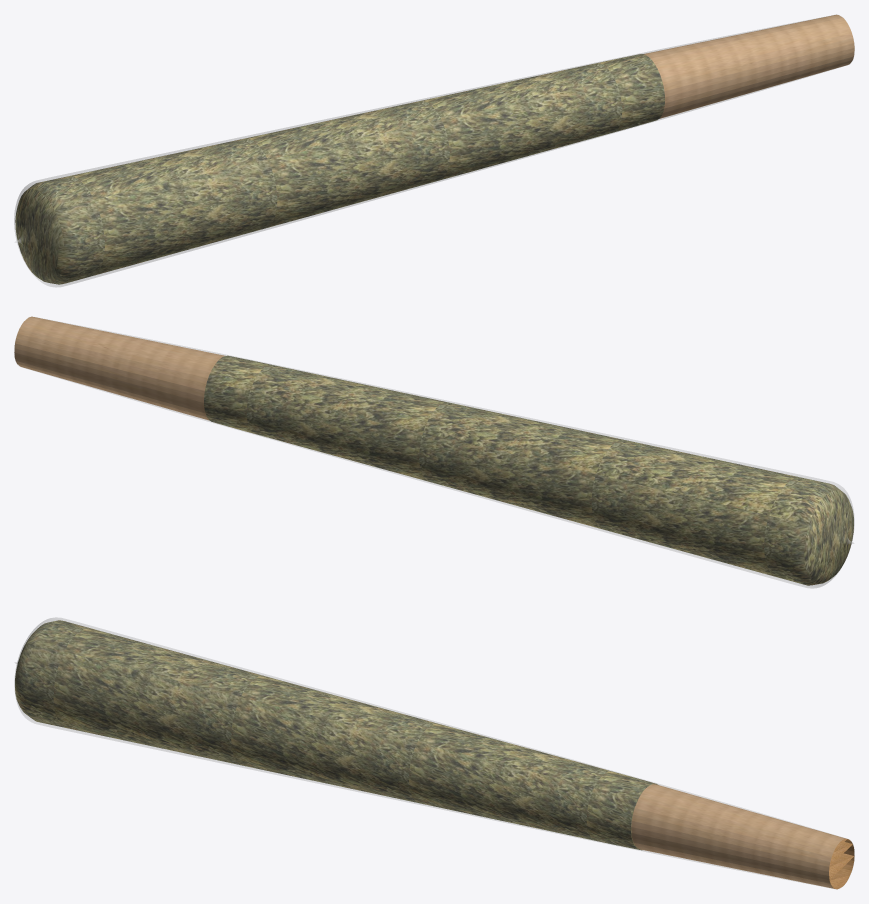
The model's file is spliff.glb.
The picture shows the model from 3 angles, top to bottom: view 1: azimuth 30°, elevation 25°; view 2: azimuth 150°, elevation 25°; view 3: azimuth 330°, elevation 25°; orthographic projection.
Parts seen in each view (by area): view 1: Rolling Paper, Flower, Paper Filter; view 2: Rolling Paper, Flower, Paper Filter; view 3: Rolling Paper, Flower, Paper Filter.
Part boxes in pixels (box(x1,y1,x2,y2)): Rolling Paper: box(14, 15, 854, 287); Flower: box(15, 54, 664, 284); Paper Filter: box(643, 14, 854, 118); Rolling Paper: box(14, 316, 854, 588); Flower: box(204, 355, 853, 585); Paper Filter: box(14, 316, 225, 420); Rolling Paper: box(14, 617, 854, 888); Flower: box(15, 620, 657, 850); Paper Filter: box(631, 784, 854, 889).
Size of the model in its own units: 0.0993 by 0.0114 by 0.0114.
Materials: 3 (2 with a texture image).
